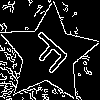F: (23, 28, 78, 82)
